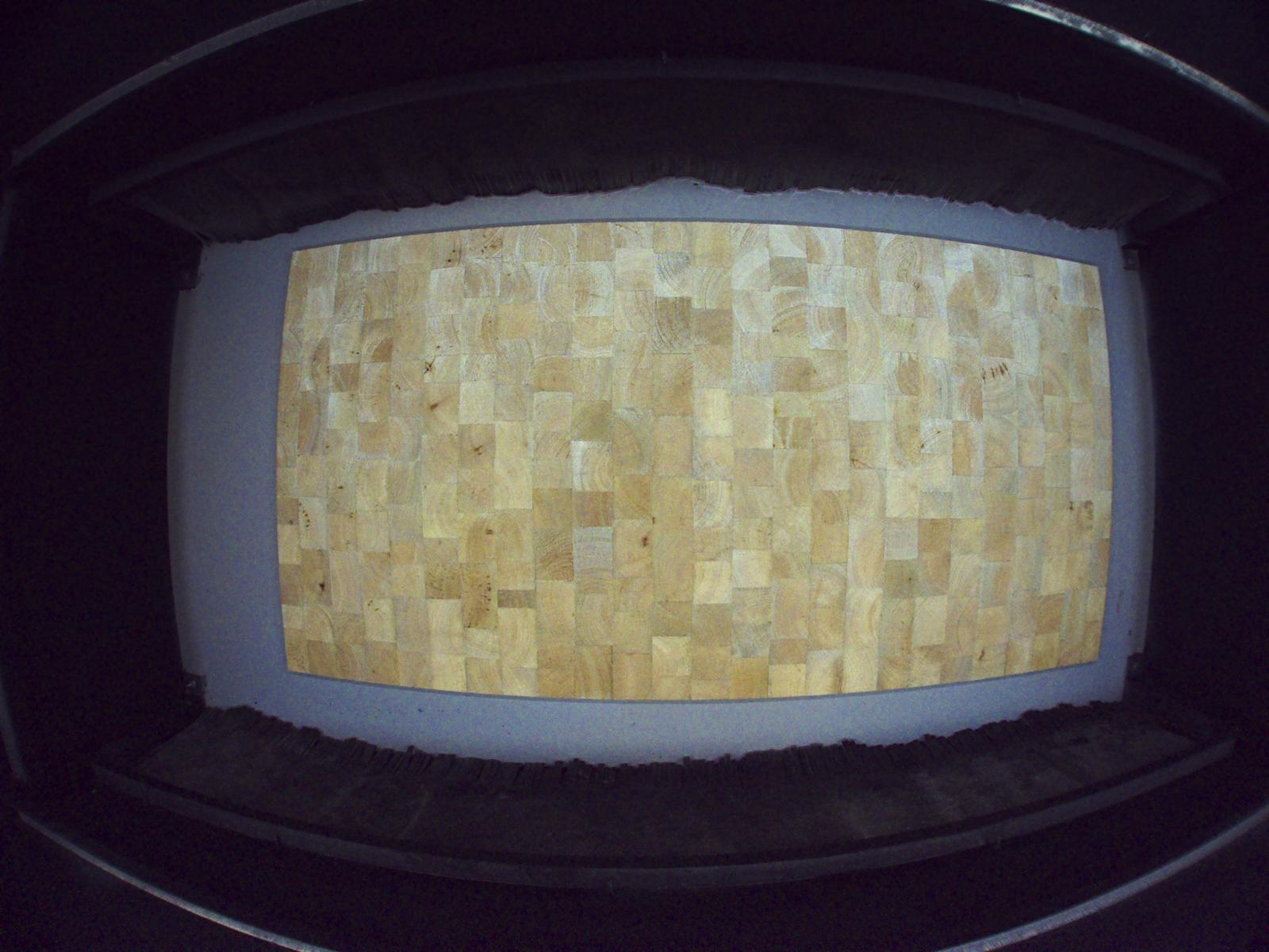sheck_ecuatoriano: (317, 569, 327, 604), (424, 356, 436, 376)
